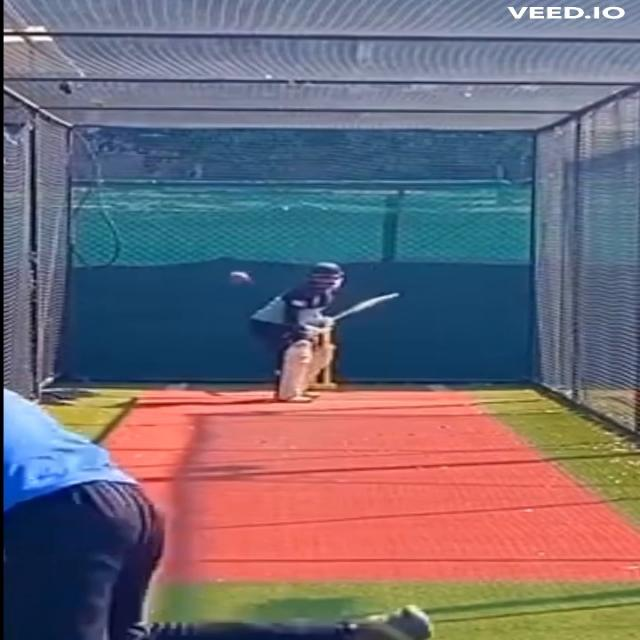ball: (225, 270, 256, 291)
